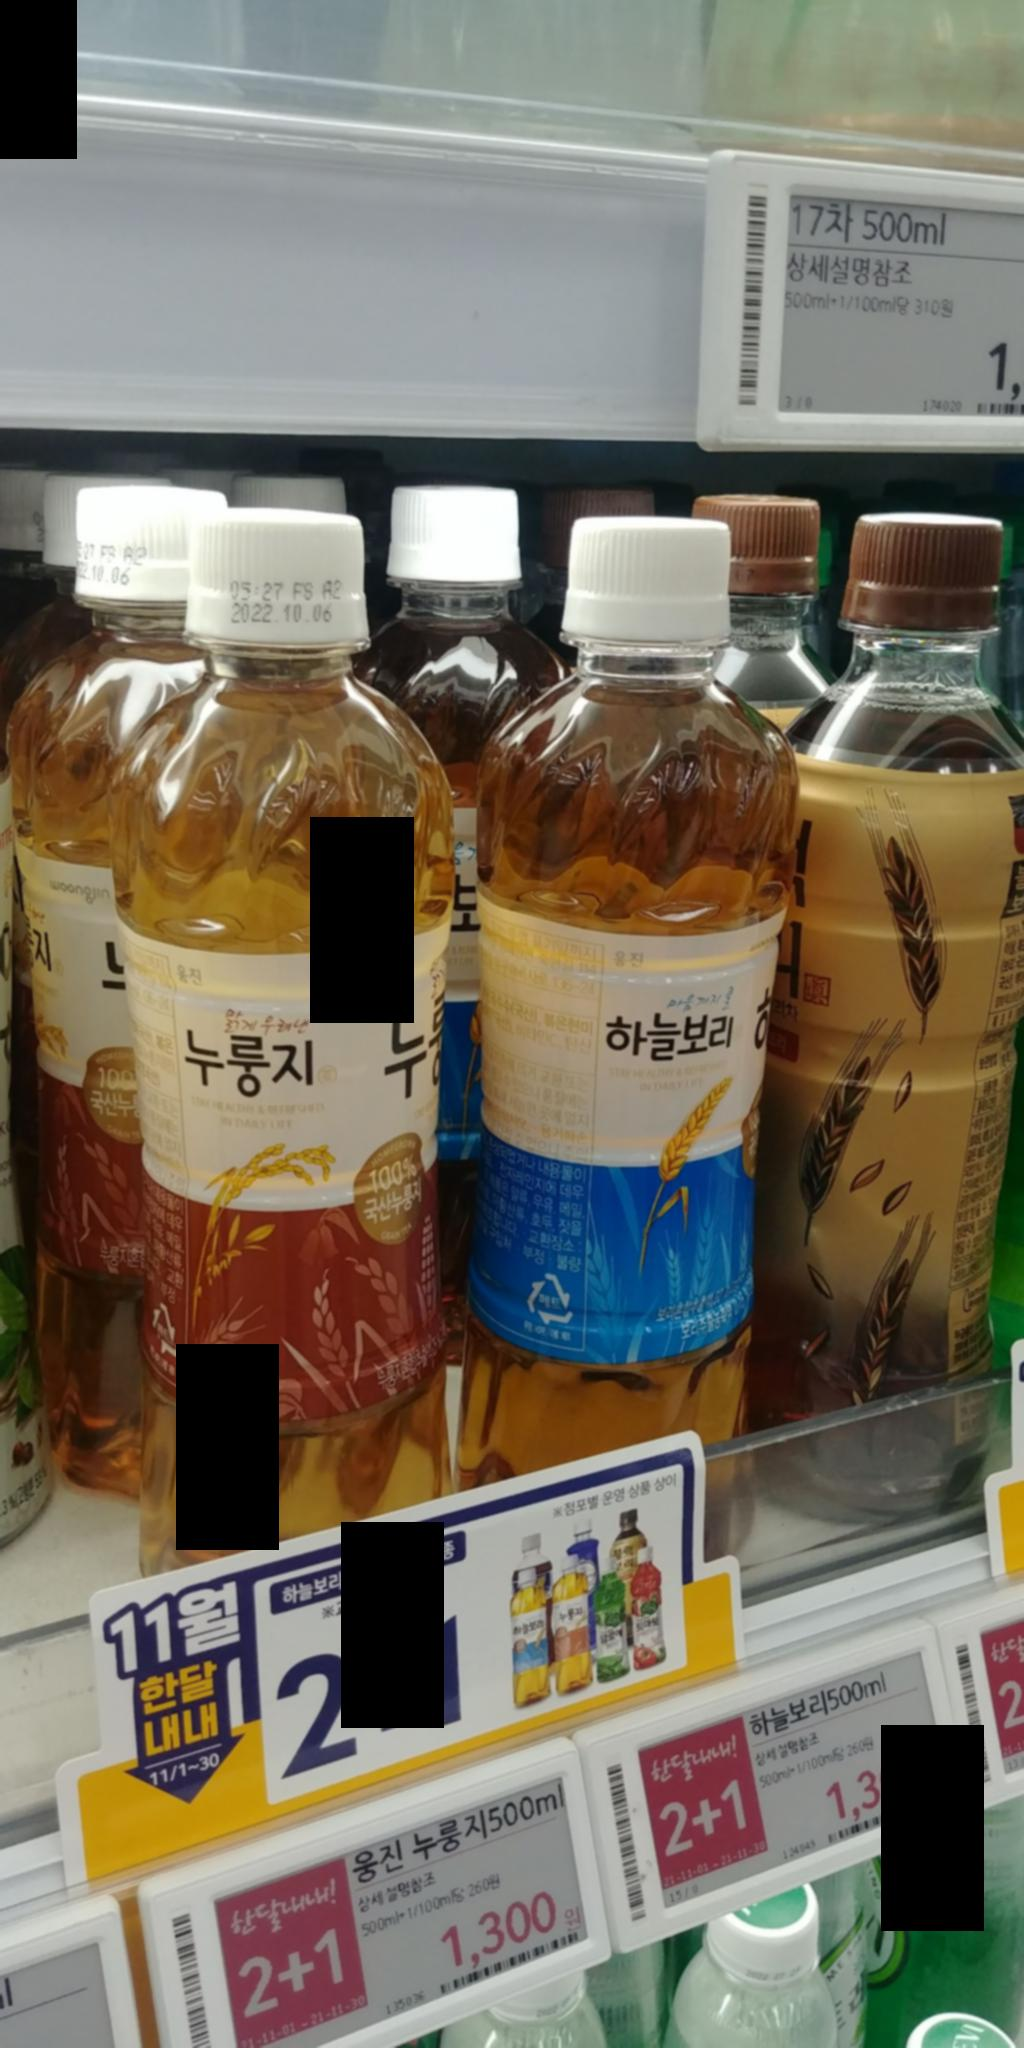haneulbori: (462, 499, 799, 1576)
